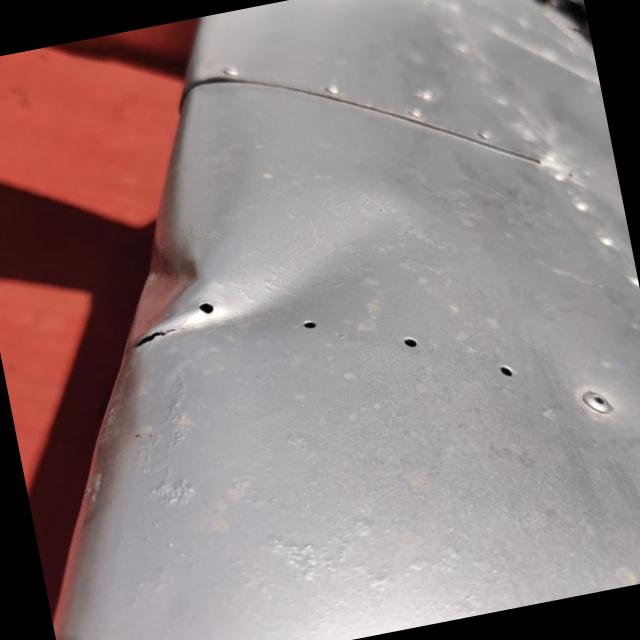Crack: (135, 330, 173, 347)
Dent: (123, 206, 289, 361)
